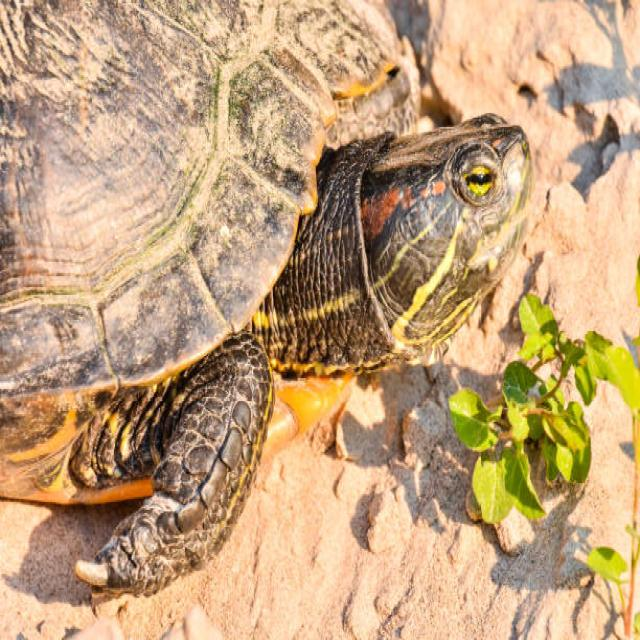terrapin: (0, 0, 447, 268), (333, 109, 550, 385), (76, 396, 287, 605)
